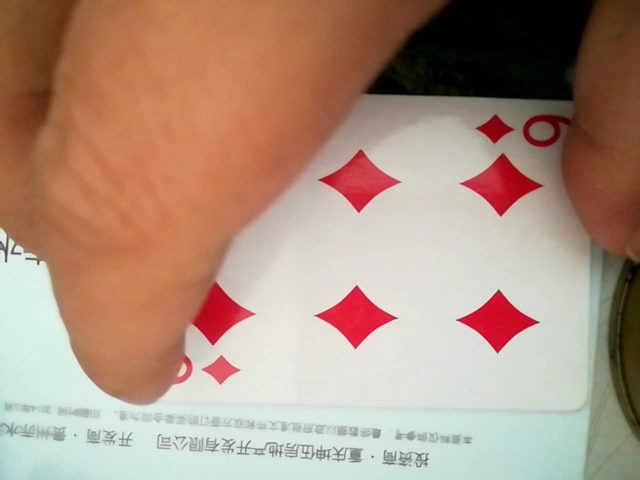fk 6: (141, 81, 610, 427)
